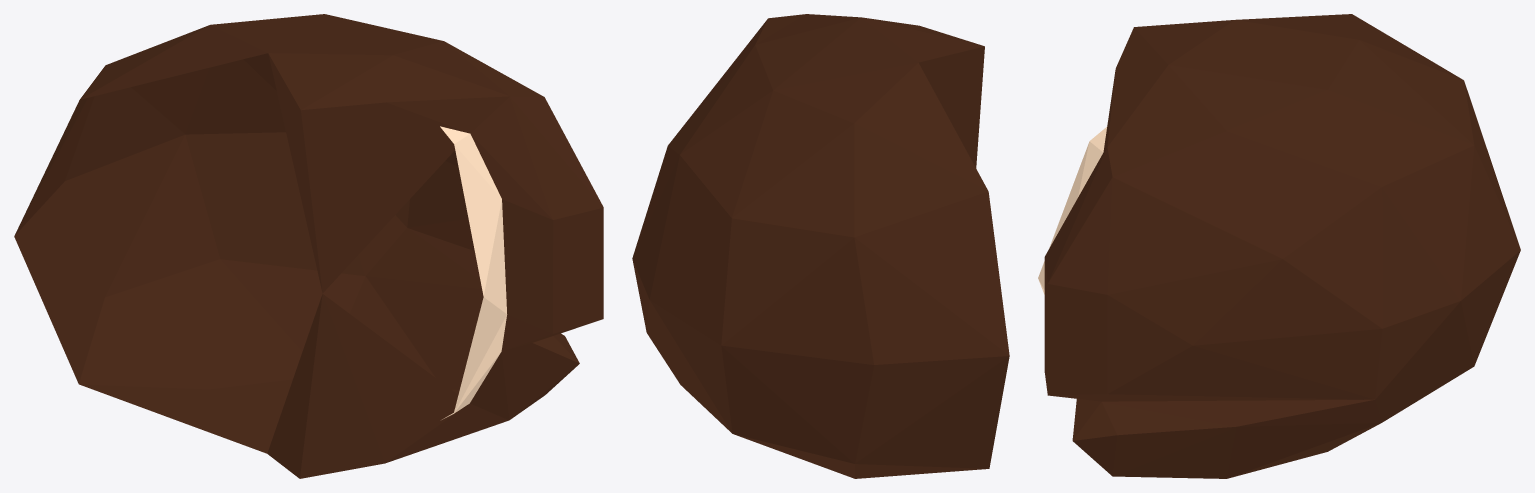
The model's file is hair5.glb.
3 renders of one model, left to right at view 1: azimuth 30°, elevation 25°; view 2: azimuth 150°, elevation 25°; view 3: azimuth 270°, elevation 25°, orthographic. The views are drawn at different scales.
Visible parts, largest first — view 1: tomodachi-2026-03-10-20-17-16-761, tomodachi-2026-03-10-20-17-16-761.008; view 2: tomodachi-2026-03-10-20-17-16-761; view 3: tomodachi-2026-03-10-20-17-16-761, tomodachi-2026-03-10-20-17-16-761.008.
Part boxes in pixels (x1,y1,x2,y2): tomodachi-2026-03-10-20-17-16-761: (14, 14, 603, 478); tomodachi-2026-03-10-20-17-16-761.008: (440, 126, 507, 419); tomodachi-2026-03-10-20-17-16-761: (632, 14, 1009, 478); tomodachi-2026-03-10-20-17-16-761: (1044, 14, 1520, 478); tomodachi-2026-03-10-20-17-16-761.008: (1038, 126, 1107, 294).
Size of the model in its own units: 1.16 by 1.04 by 1.13.
Materials: 2 (2 with a texture image).
